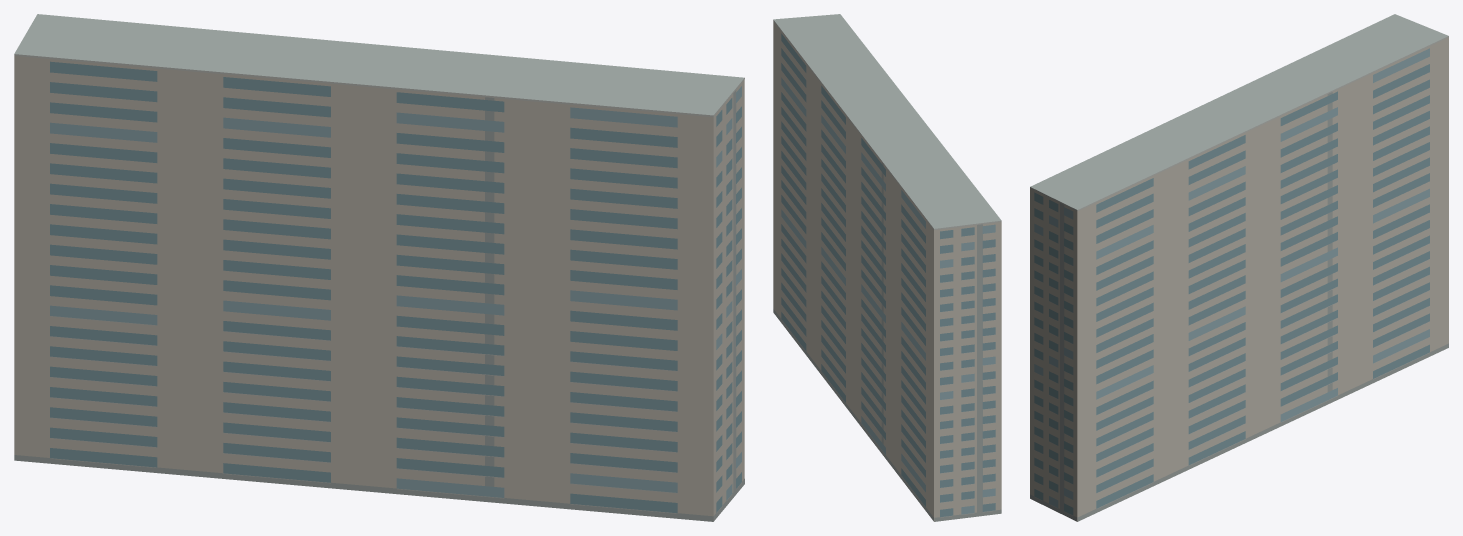
The model's file is residential-de2d96c5-7084-4e4f-89ed-b5598e61a72e.glb.
The picture shows the model from 3 angles, left to right: view 1: azimuth 30°, elevation 25°; view 2: azimuth 150°, elevation 25°; view 3: azimuth 270°, elevation 25°; orthographic projection. The views are drawn at different scales.
Parts seen in each view (by area): view 1: residential-de2d96c5-7084-4e4f-89ed-b5598e61a72e.tmp; view 2: residential-de2d96c5-7084-4e4f-89ed-b5598e61a72e.tmp; view 3: residential-de2d96c5-7084-4e4f-89ed-b5598e61a72e.tmp.
Boxes of the visible parts, x1,y1,x2,y2 form: residential-de2d96c5-7084-4e4f-89ed-b5598e61a72e.tmp: (14,14,744,521); residential-de2d96c5-7084-4e4f-89ed-b5598e61a72e.tmp: (773,14,1001,521); residential-de2d96c5-7084-4e4f-89ed-b5598e61a72e.tmp: (1030,14,1448,521).
Size of the model in its own units: 75.52 by 56 by 68.17.
